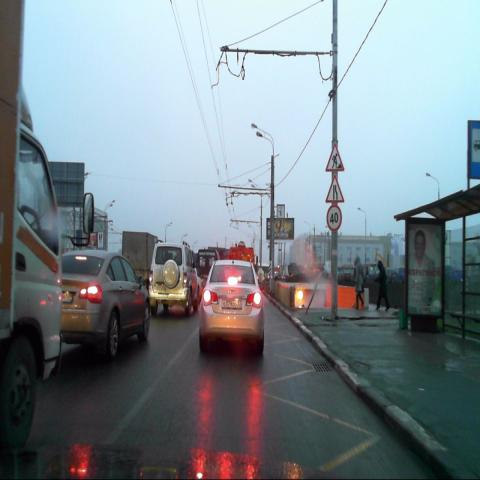1_20_2: (326, 173, 344, 202)
